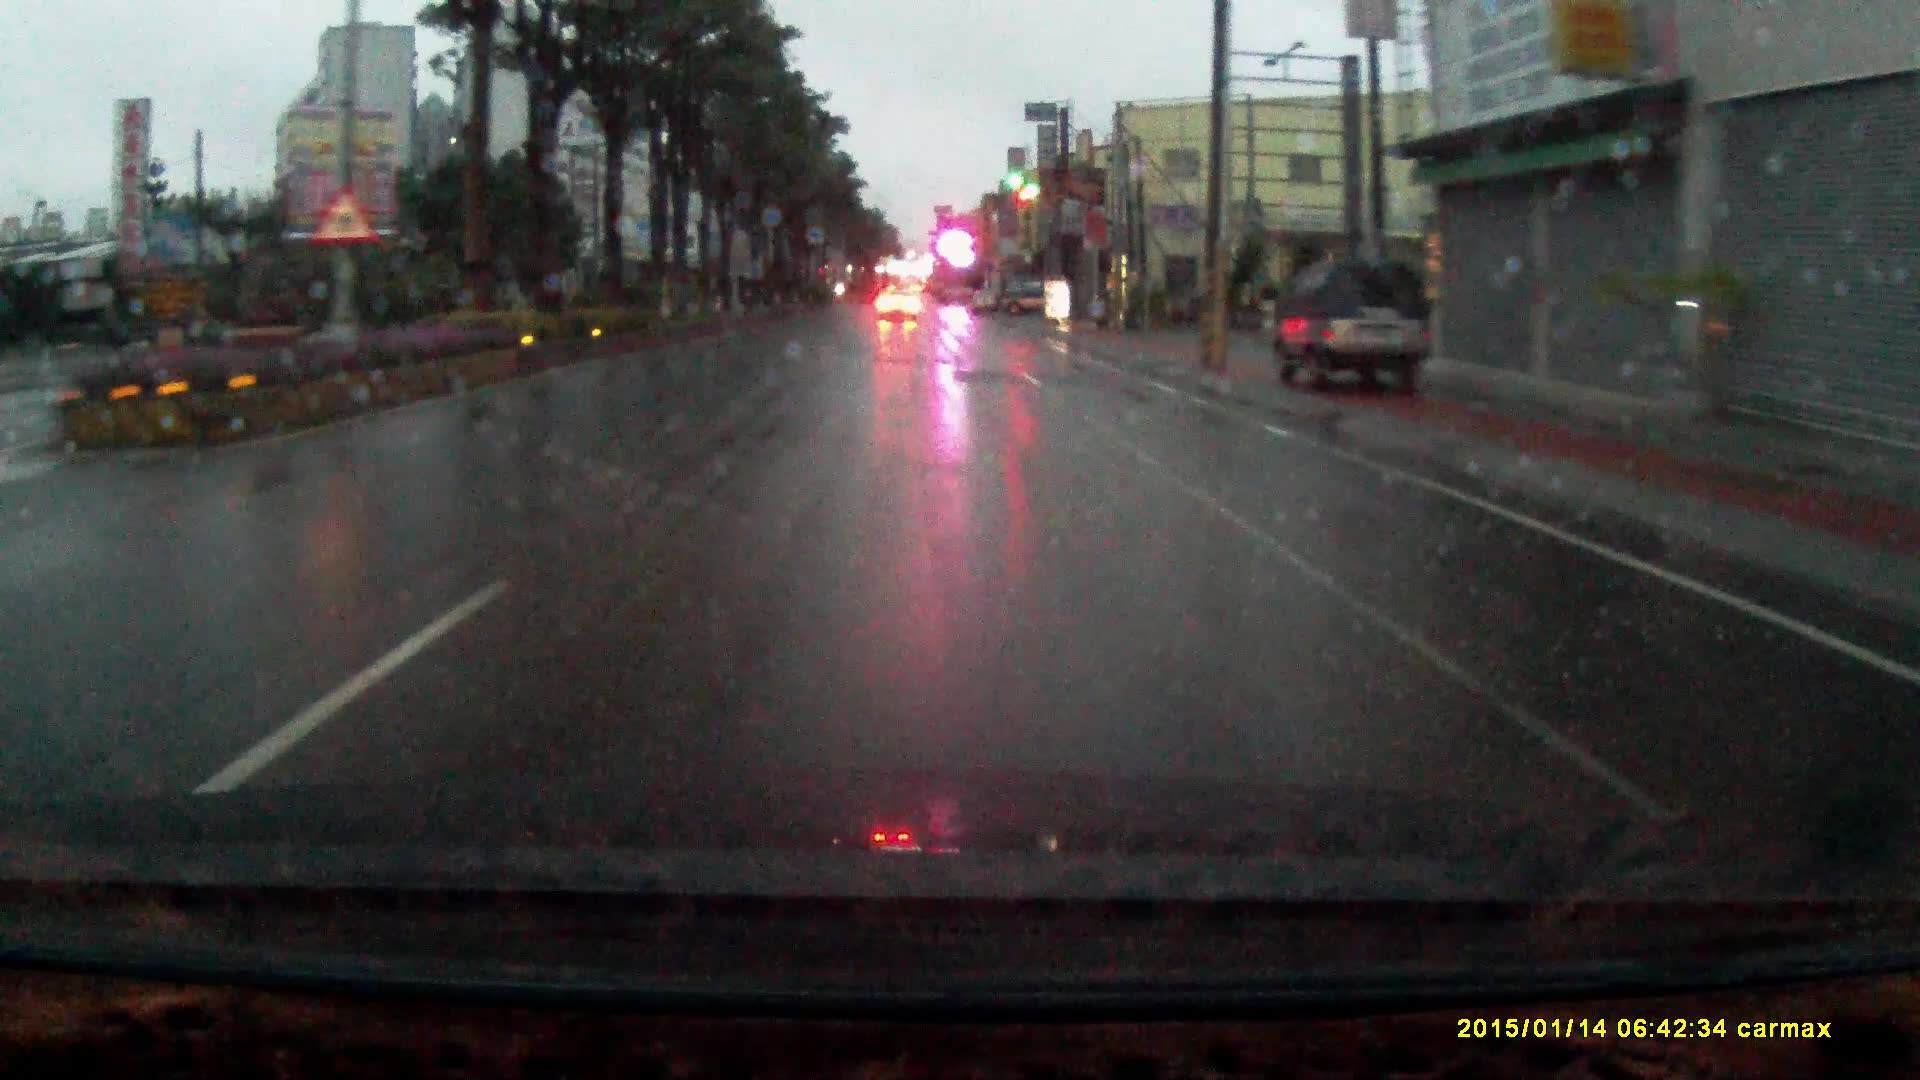vehicle: (1269, 273, 1437, 407), (876, 291, 920, 328)
